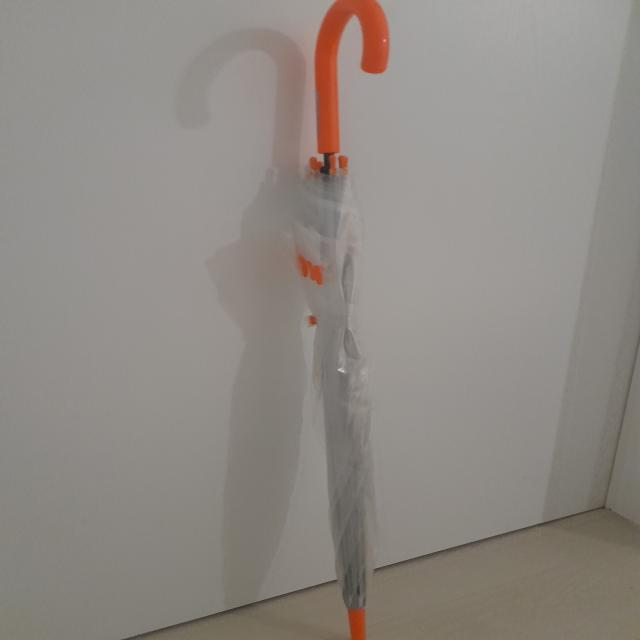umbrella: (291, 0, 389, 635)
